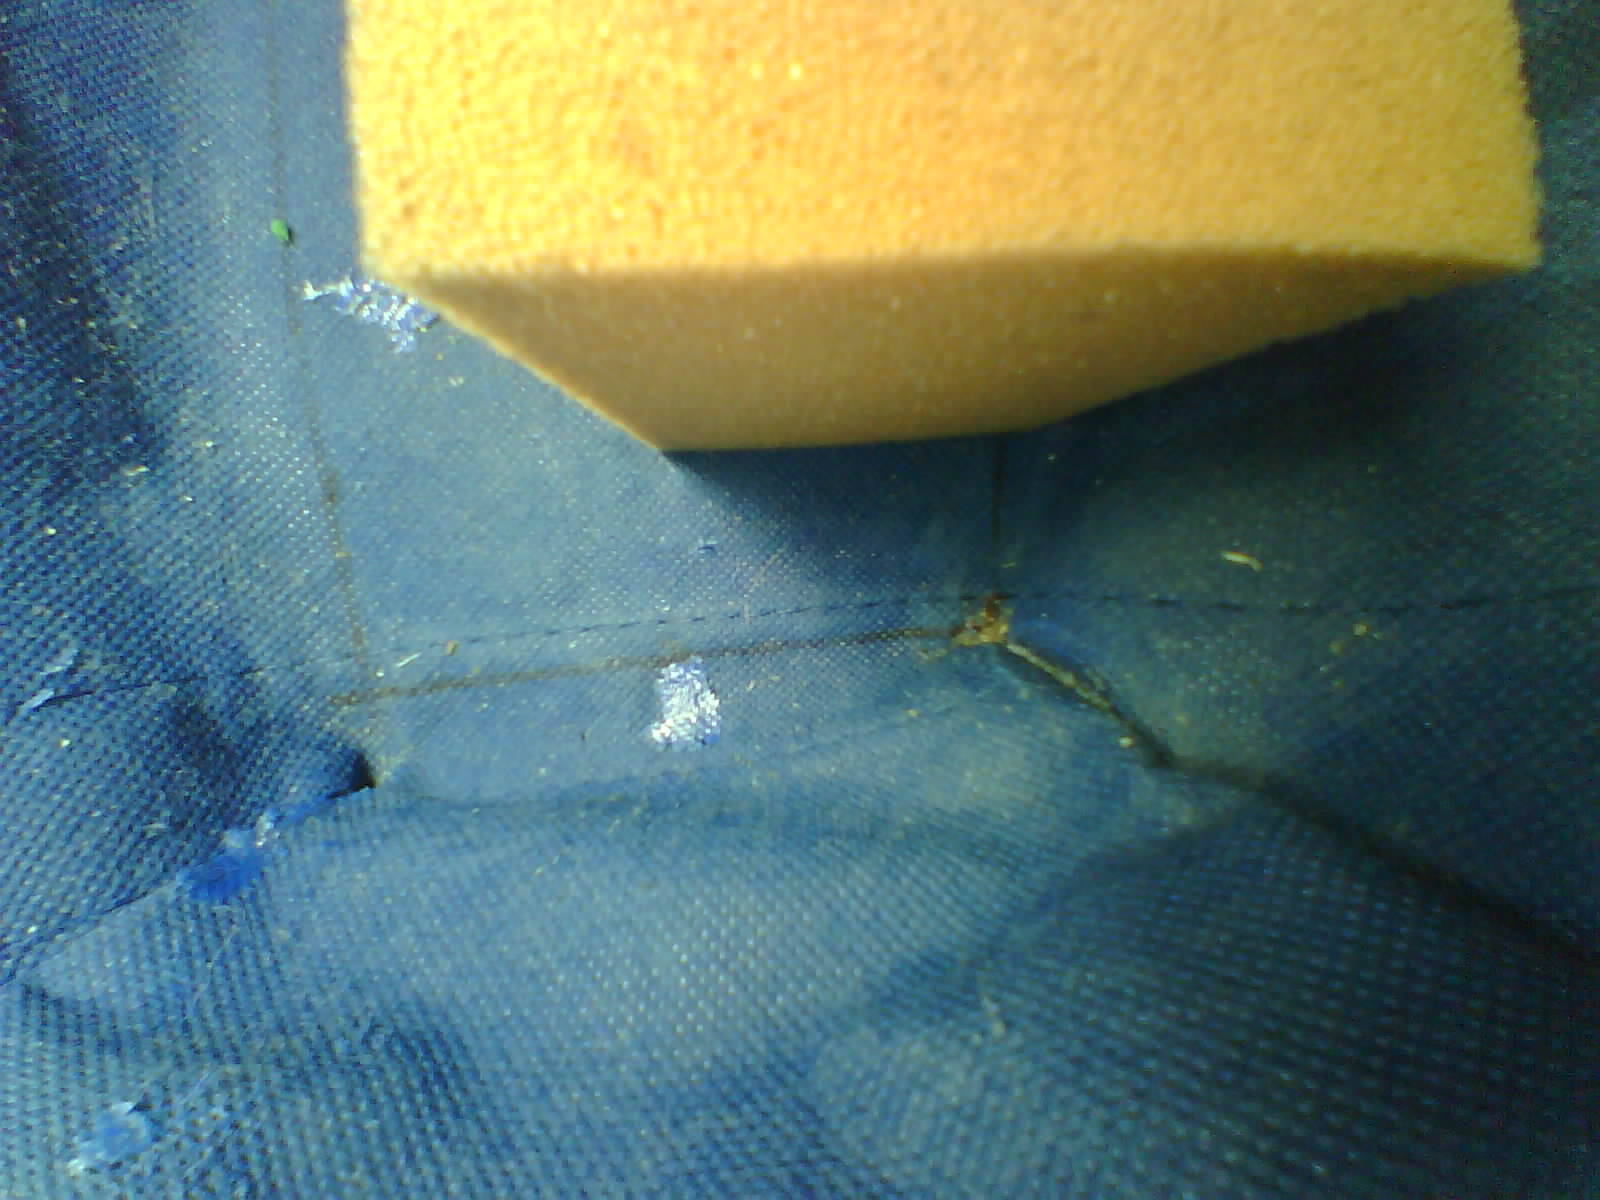cube-soft: (307, 0, 1569, 466)
